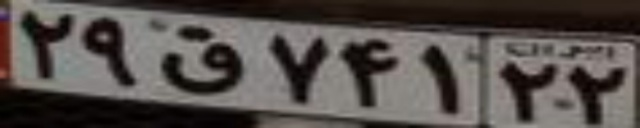1: (420, 43, 461, 114)
2: (19, 9, 75, 80), (499, 59, 557, 123), (567, 64, 627, 125)
4: (338, 38, 400, 109)
7: (269, 32, 329, 105)
9: (85, 18, 131, 84)
ghaf: (157, 24, 245, 93)
